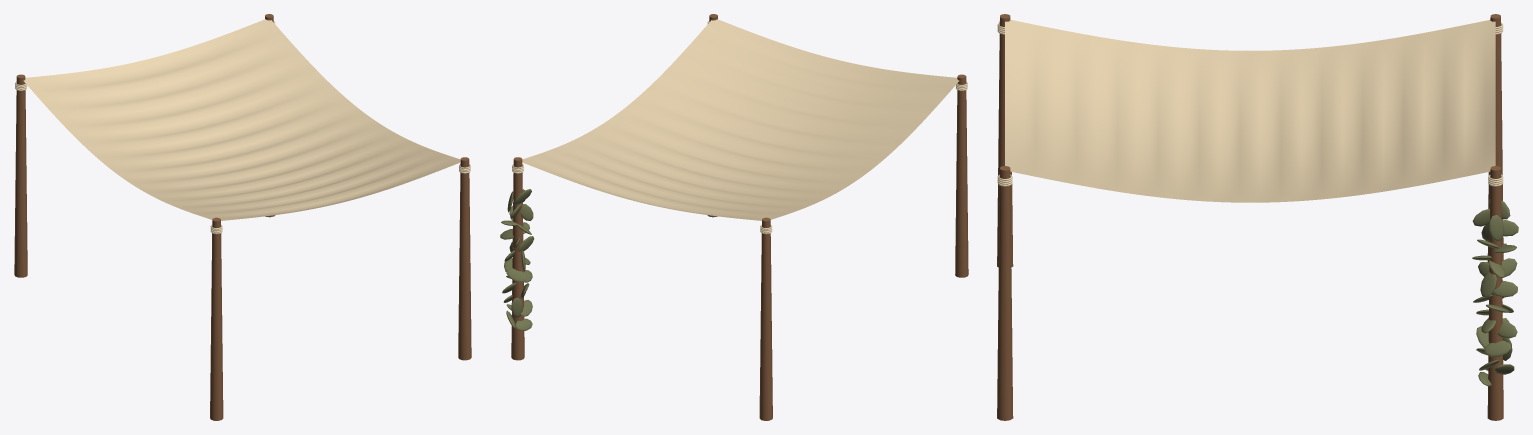
3 views of the same model, side by side, from view 1: azimuth 30°, elevation 25°; view 2: azimuth 150°, elevation 25°; view 3: azimuth 270°, elevation 25° (orthographic). The views are drawn at different scales.
Visible parts, largest first — view 1: Mesh_LinenCanopy, Mesh_CanopyMast_1, Mesh_CanopyMast_2, Mesh_CanopyMast_3; view 2: Mesh_LinenCanopy, Mesh_CanopyMast_3, Mesh_CanopyMast_2, Mesh_CanopyMast_0; view 3: Mesh_LinenCanopy, Mesh_CanopyMast_1, Mesh_CanopyMast_0, Mesh_CanopyMast_3, Mesh_CanopyMast_2.
Part boxes in pixels (x1=…): Mesh_LinenCanopy: x1=23, y1=19, x2=460, y2=220; Mesh_CanopyMast_1: x1=458, y1=157, x2=471, y2=360; Mesh_CanopyMast_2: x1=14, y1=74, x2=27, y2=277; Mesh_CanopyMast_3: x1=210, y1=217, x2=223, y2=420; Mesh_LinenCanopy: x1=522, y1=19, x2=959, y2=220; Mesh_CanopyMast_3: x1=955, y1=74, x2=968, y2=277; Mesh_CanopyMast_2: x1=759, y1=217, x2=772, y2=420; Mesh_CanopyMast_0: x1=511, y1=157, x2=524, y2=360; Mesh_LinenCanopy: x1=1005, y1=19, x2=1495, y2=202; Mesh_CanopyMast_1: x1=997, y1=166, x2=1013, y2=420; Mesh_CanopyMast_0: x1=1487, y1=166, x2=1503, y2=420; Mesh_CanopyMast_3: x1=997, y1=14, x2=1013, y2=267; Mesh_CanopyMast_2: x1=1487, y1=14, x2=1503, y2=262.
Size of the model in its own units: 4.62 by 3.25 by 6.17.
